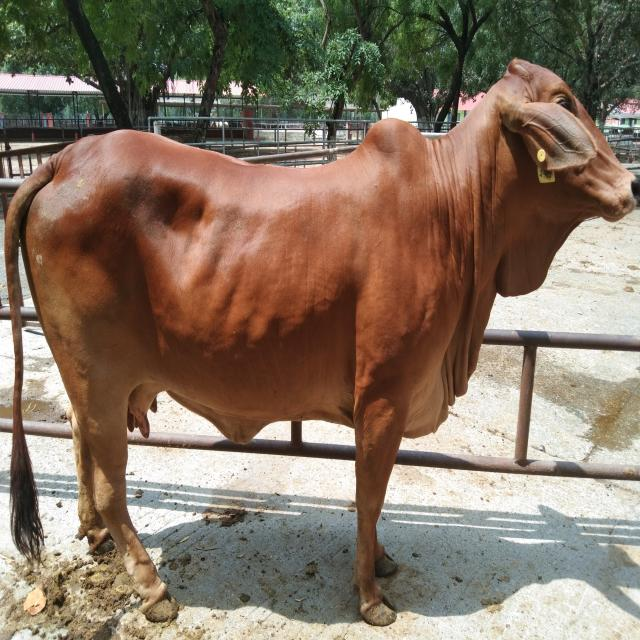1: (348, 117, 432, 155)
Hoof: (143, 590, 179, 623), (359, 598, 397, 626), (374, 552, 397, 577)
